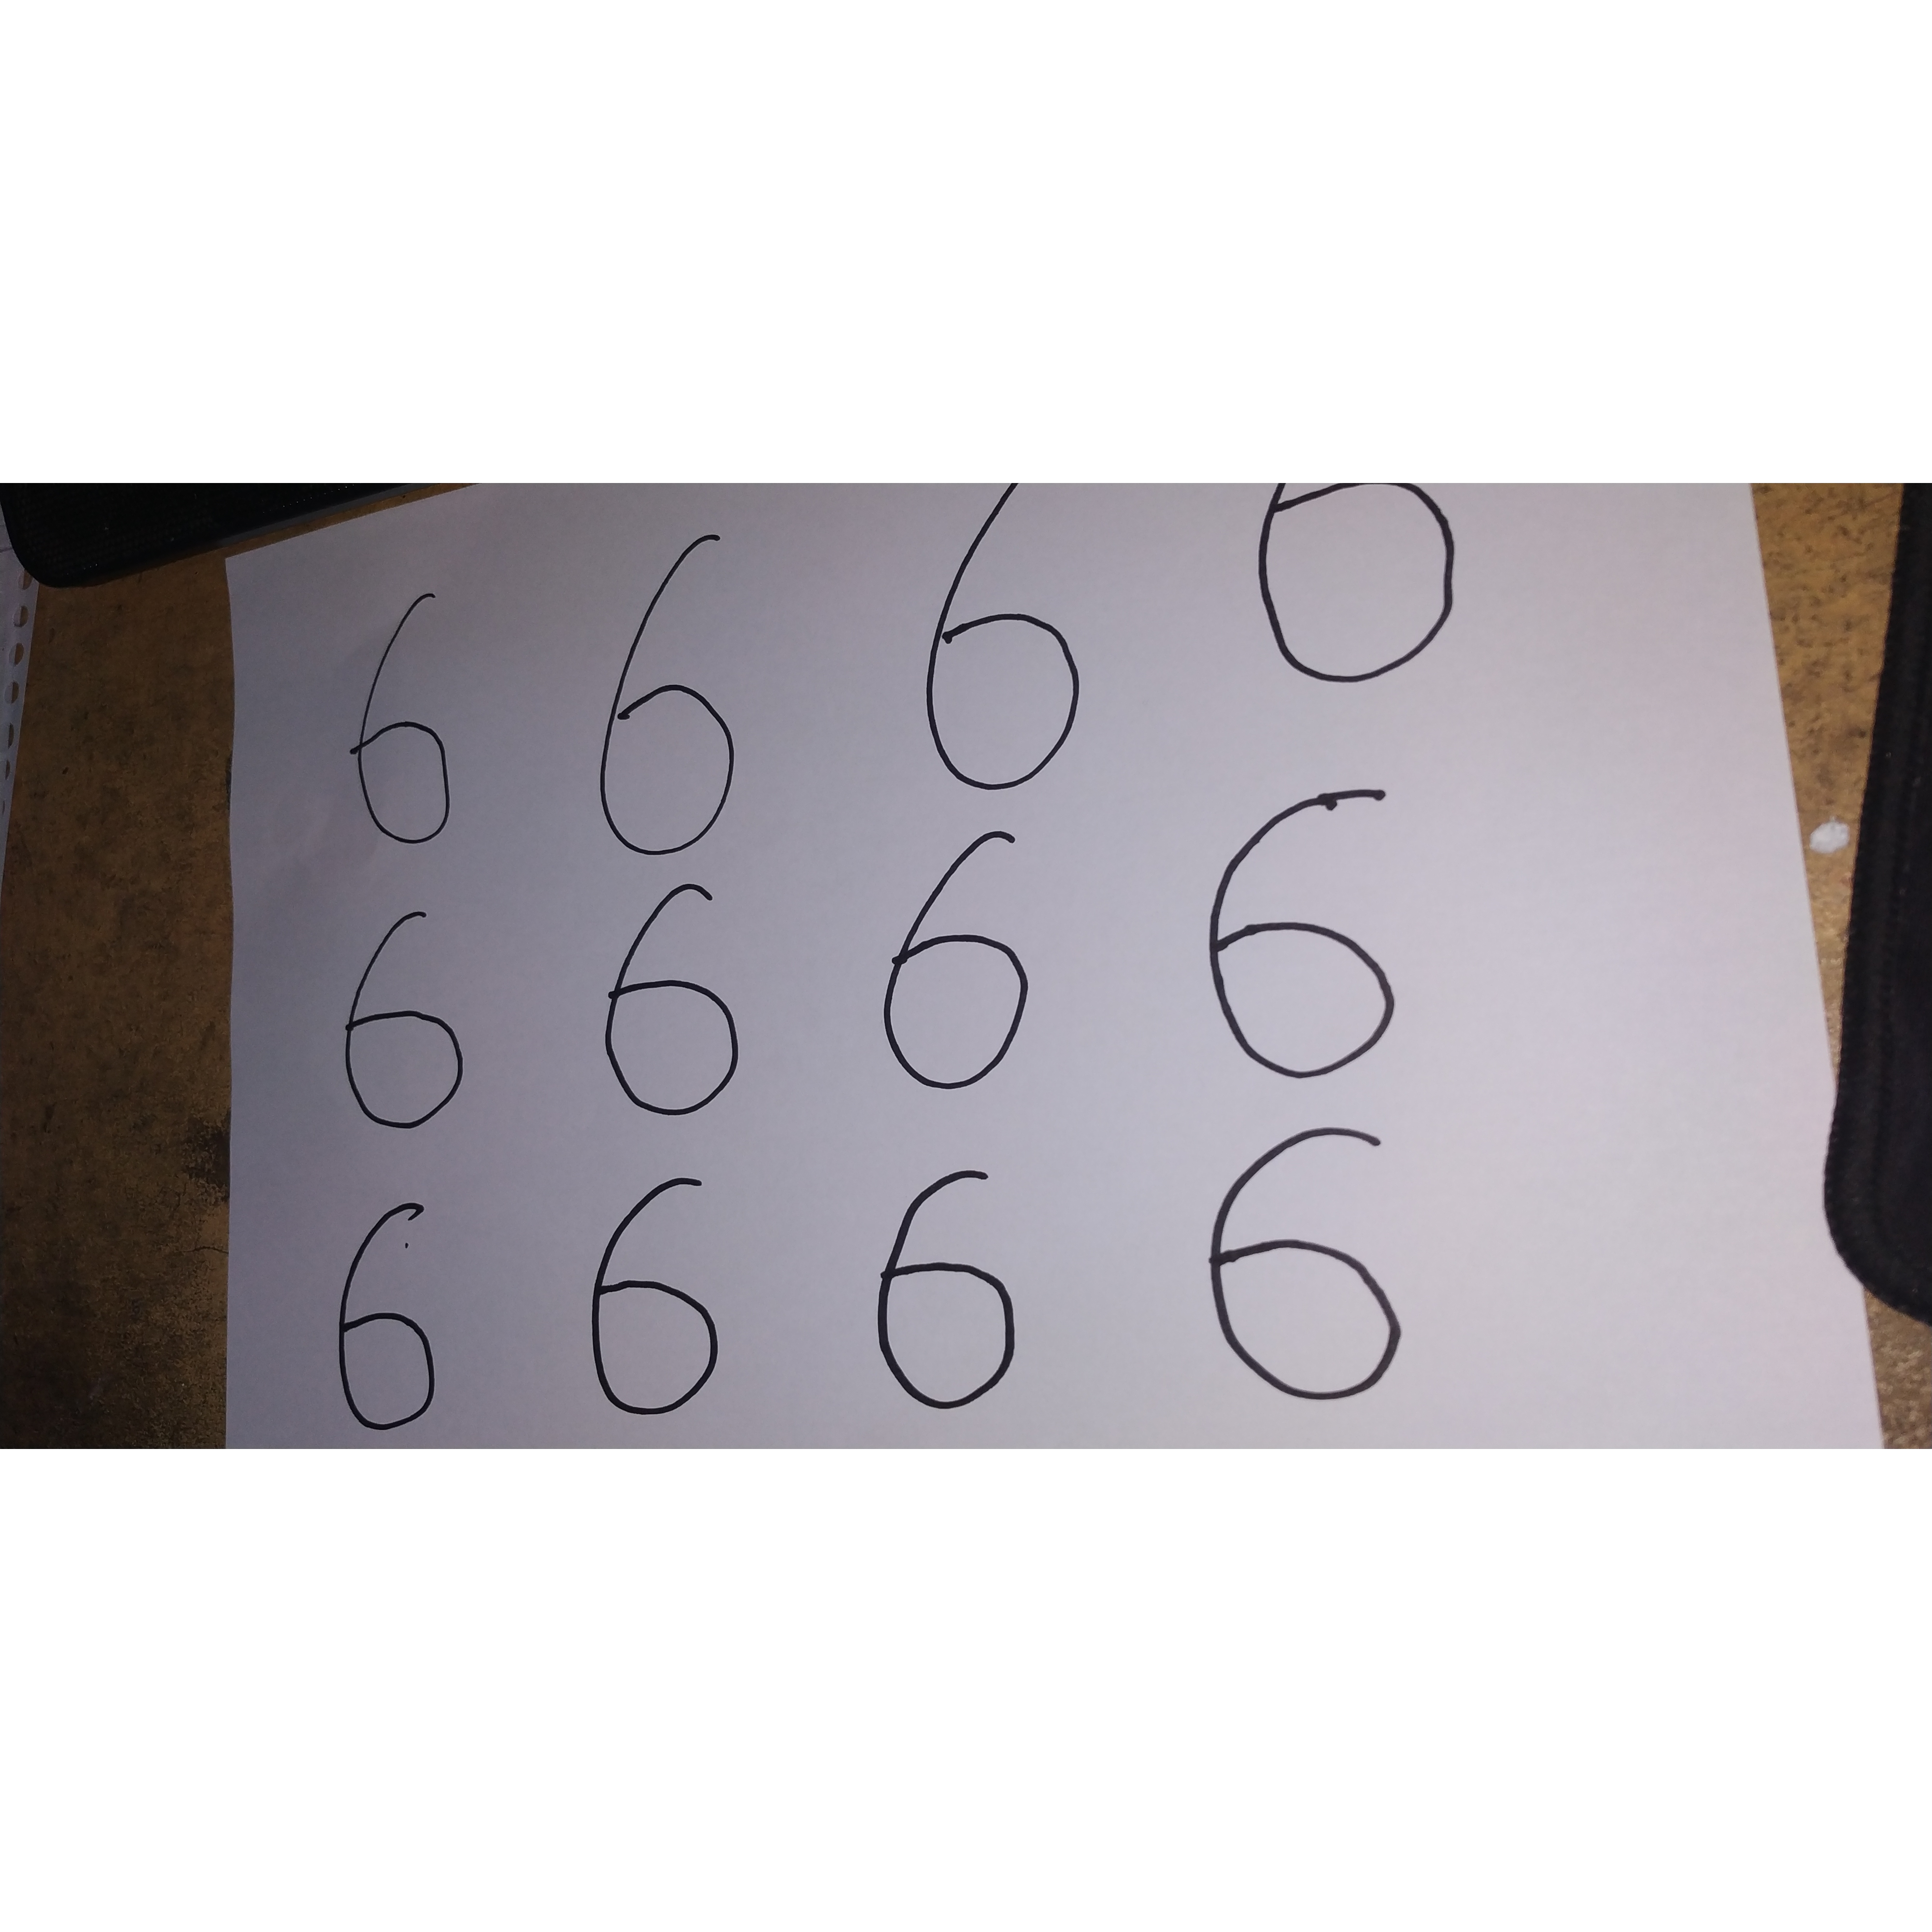num6: (1192, 768, 1450, 1088), (1202, 1111, 1441, 1418), (587, 516, 780, 865), (841, 1159, 1072, 1420), (860, 819, 1057, 1102), (570, 878, 771, 1125), (324, 580, 492, 859), (576, 1165, 746, 1421), (328, 893, 498, 1147), (328, 1186, 478, 1451)
